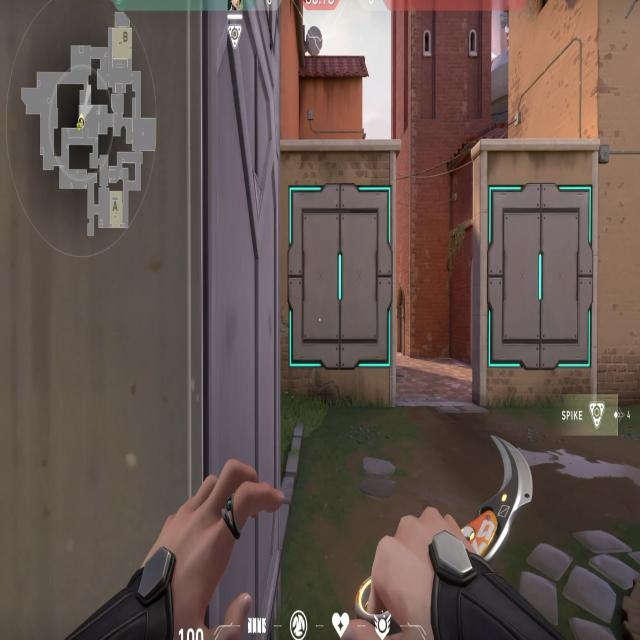Mid_Wall: (467, 139, 621, 423), (276, 141, 408, 417)
